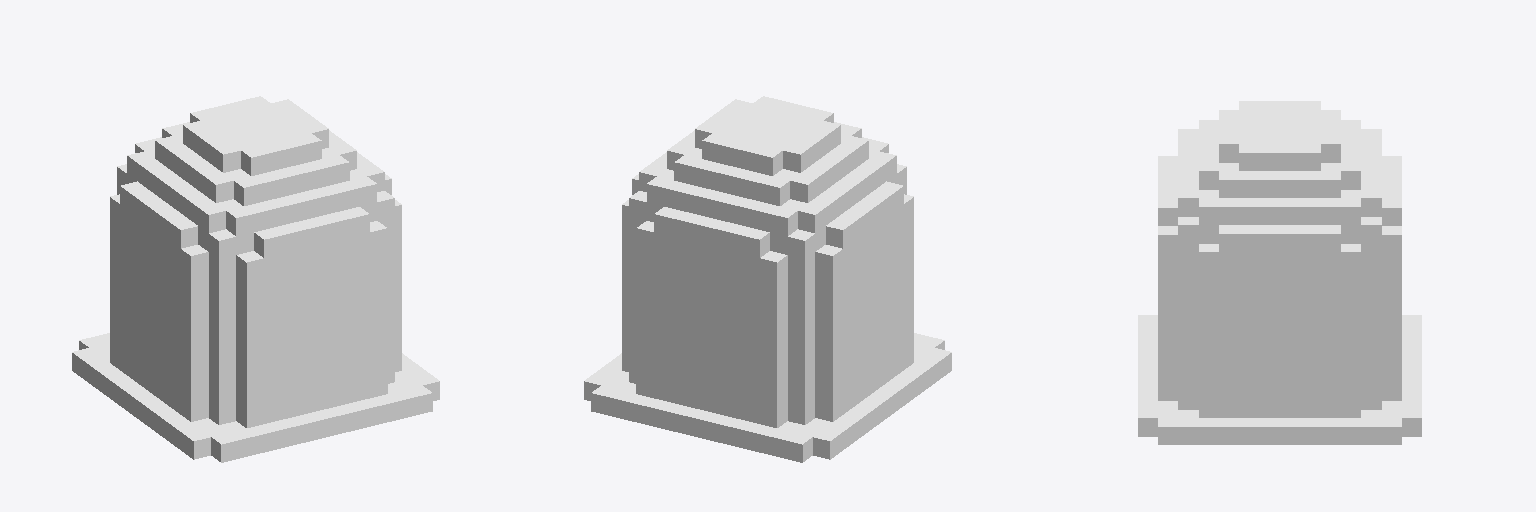
Rendered from slime.obj.
3 views of the same model, side by side, from view 1: azimuth 30°, elevation 25°; view 2: azimuth 150°, elevation 25°; view 3: azimuth 270°, elevation 25° (orthographic).
Parts seen in each view (by area): view 1: slime.001; view 2: slime.001; view 3: slime.001.
Boxes of the visible parts, x1=… form: slime.001: x1=72, y1=96, x2=439, y2=462; slime.001: x1=584, y1=96, x2=951, y2=462; slime.001: x1=1138, y1=101, x2=1421, y2=444.
Bounding box in the file's own units: 6.19 × 6.19 × 6.19.